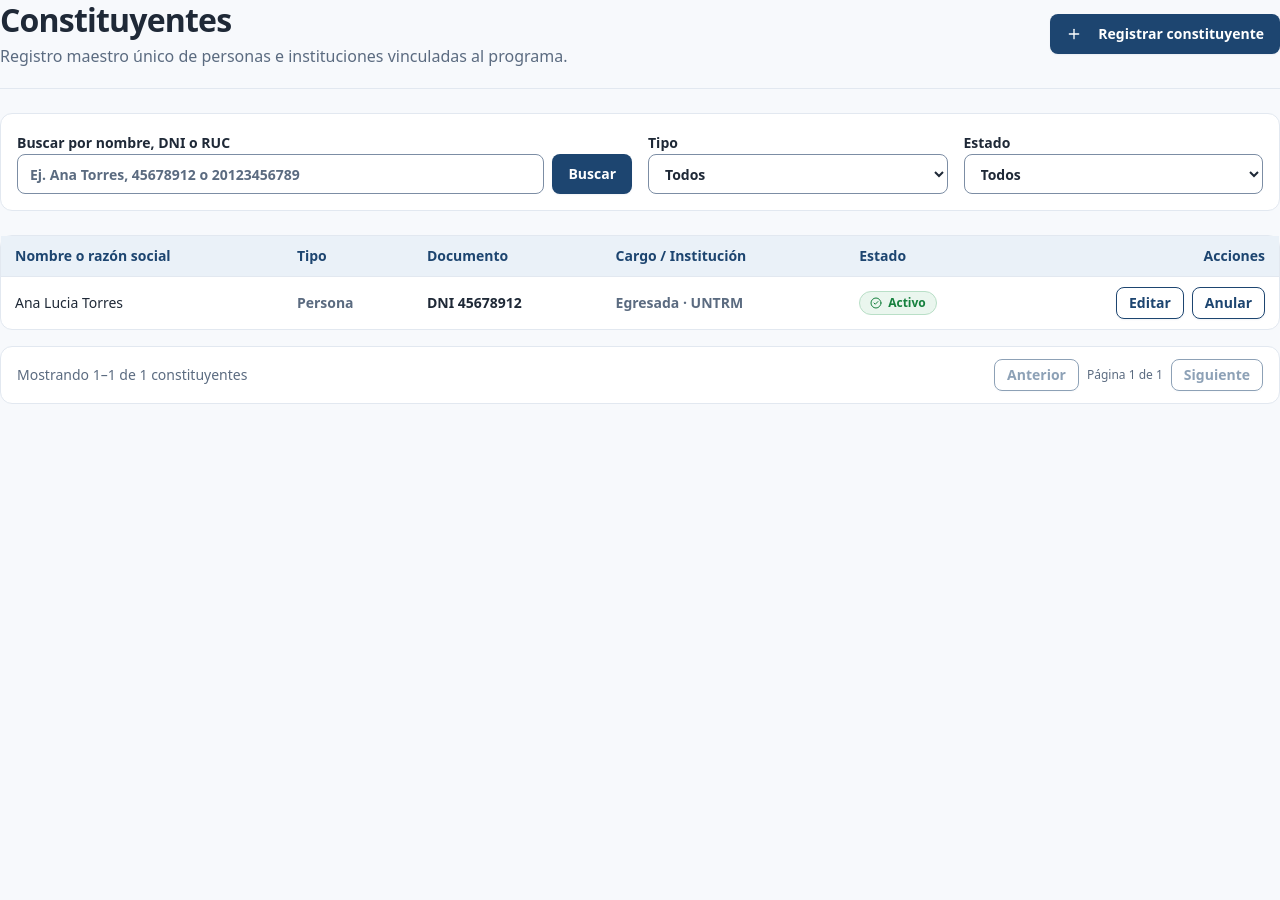
Test: StakeholdersPage (HU-021, T-021-17, T-021-29) › voids with a reason, shows the voided status badge and never deletes (CA3)
This screenshot has width=1280, height=900.
Expected: the text "Ana Lucia Torres" is shown, [1,276,283,328]
Click the button "Anular": (1228, 302) [1192,286,1265,318]
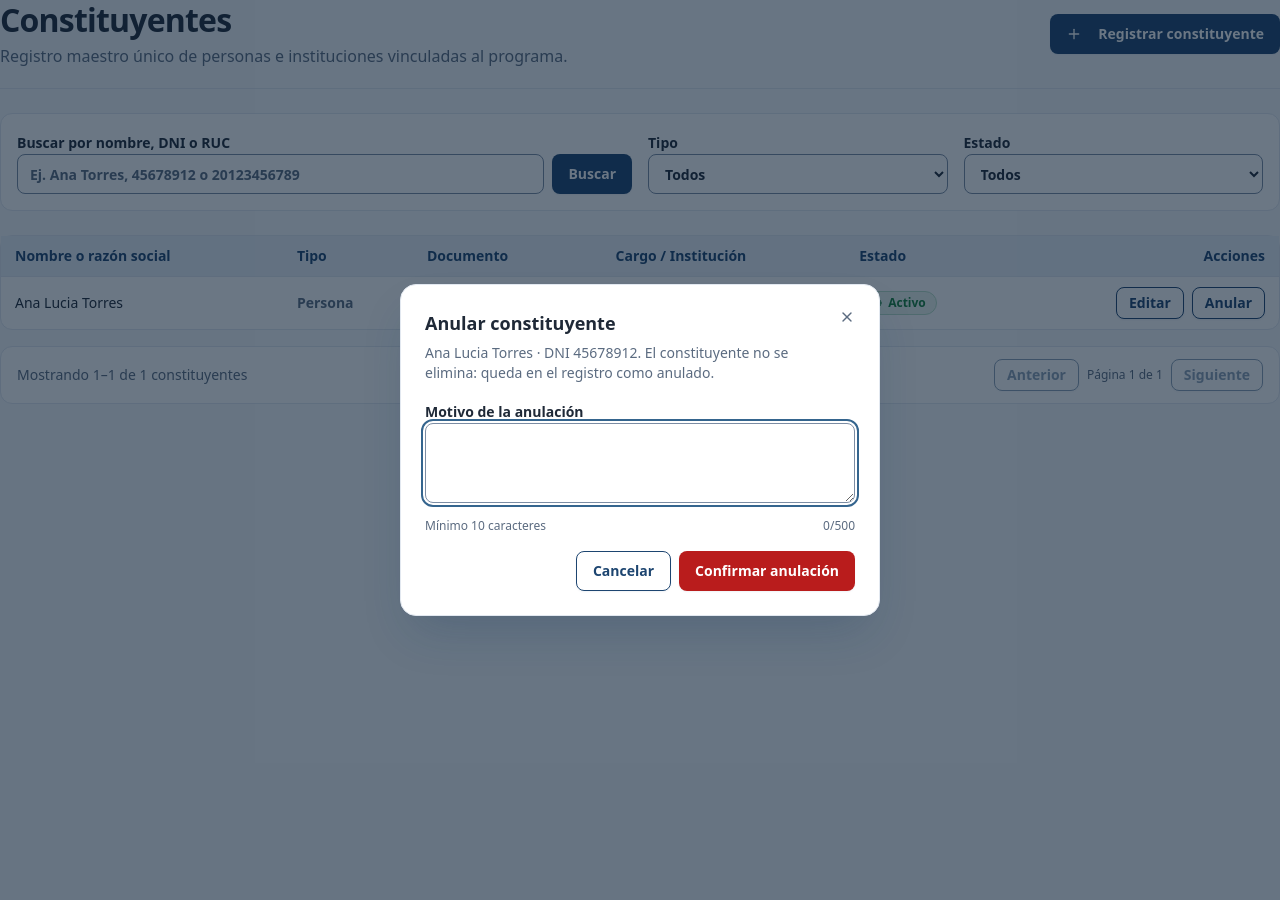
In the text box labelled "Motivo de la anulación": (640, 463) [425,423,855,503], type "Constituyente dado de baja por solicitud expresa"
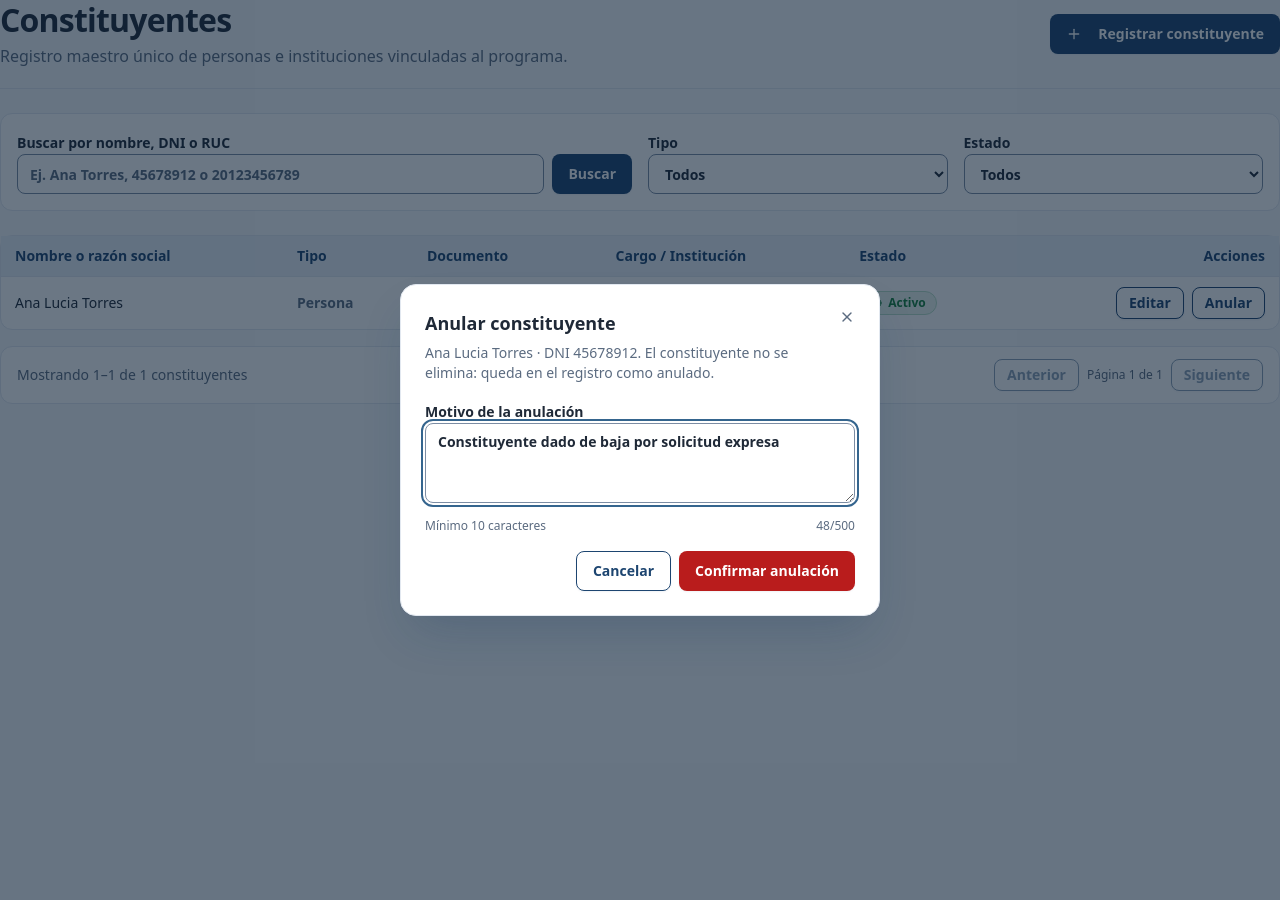
Click the button "Confirmar anulación": (767, 571) [679,551,855,591]
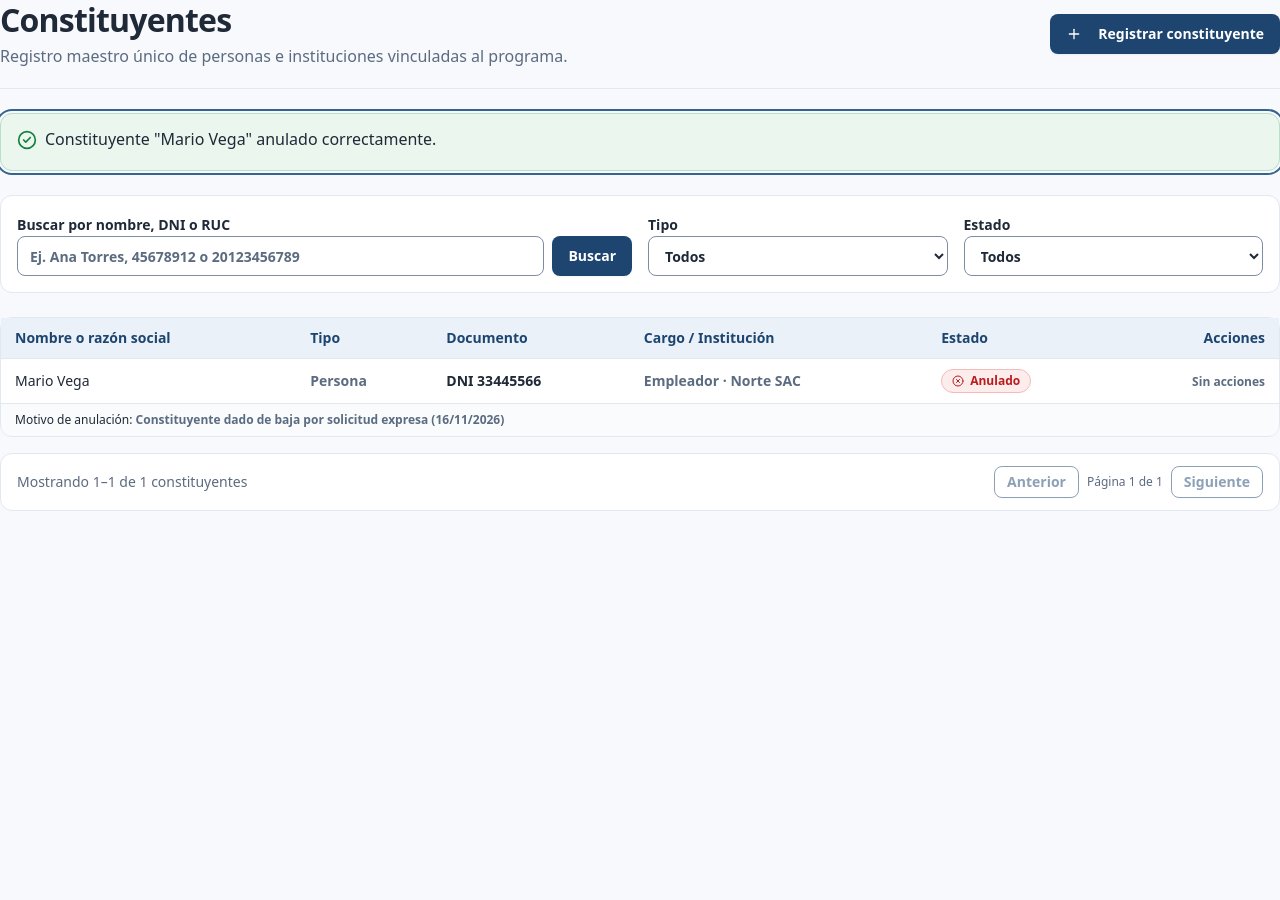
Expected: the text "Motivo de anulación:" is shown, [15,410,132,428]
